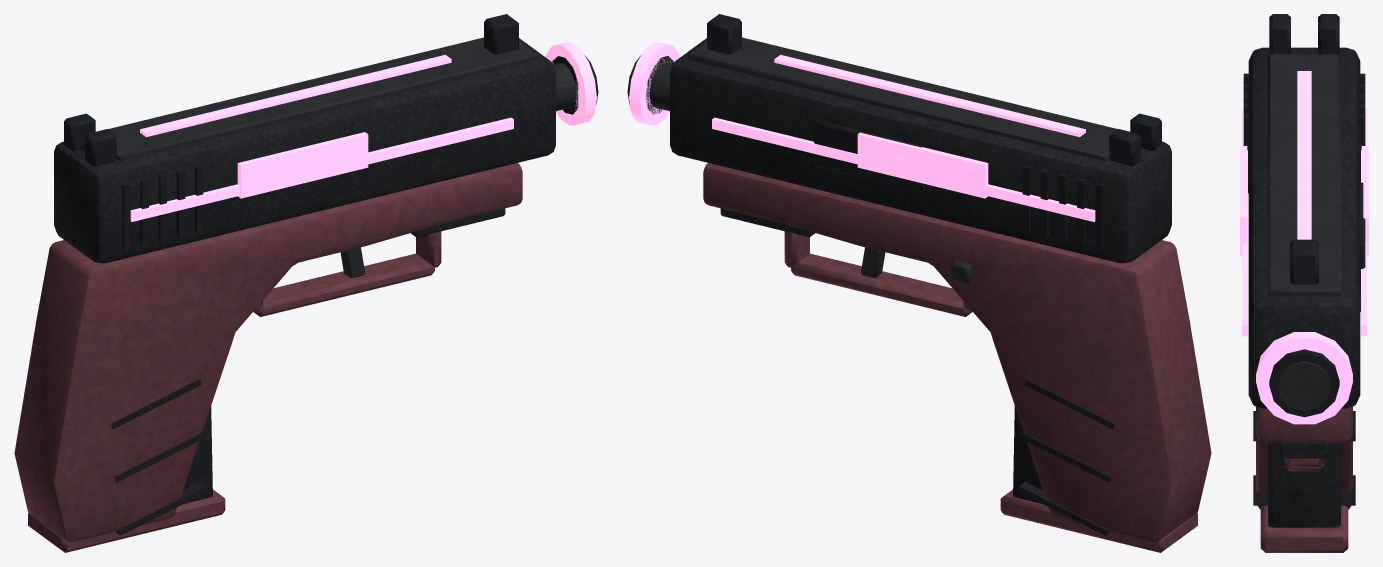
The model's file is pistol_r5.fbx.
The picture shows the model from 3 angles, left to right: view 1: azimuth 30°, elevation 25°; view 2: azimuth 150°, elevation 25°; view 3: azimuth 270°, elevation 25°; orthographic projection. The views are drawn at different scales.
Visible parts, largest first — view 1: Body, Slide, Glow, Magazine; view 2: Body, Slide, Glow, Magazine; view 3: Slide, Body, Glow, Magazine.
Part boxes in pixels (x1=…): Body: x1=14, y1=55, x2=598, y2=541; Slide: x1=54, y1=14, x2=555, y2=263; Glow: x1=130, y1=42, x2=596, y2=221; Magazine: x1=28, y1=406, x2=225, y2=552; Body: x1=627, y1=55, x2=1211, y2=541; Slide: x1=670, y1=14, x2=1171, y2=263; Glow: x1=629, y1=42, x2=1095, y2=221; Magazine: x1=1000, y1=406, x2=1197, y2=552; Slide: x1=1243, y1=14, x2=1365, y2=408; Body: x1=1253, y1=295, x2=1360, y2=509; Glow: x1=1240, y1=71, x2=1368, y2=424; Magazine: x1=1260, y1=443, x2=1348, y2=552.
Size of the model in its own units: 3.04 by 2.16 by 0.53.
Materials: 2 (1 with a texture image).
